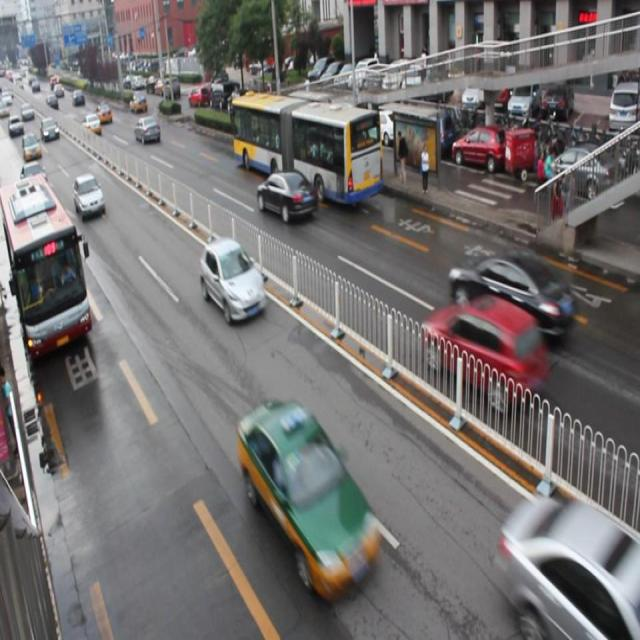car: (238, 403, 380, 591), (500, 492, 640, 640), (419, 291, 546, 409), (449, 248, 575, 341), (200, 238, 266, 323), (256, 172, 317, 221), (74, 172, 104, 218), (133, 116, 161, 145)
van: (230, 89, 381, 206), (1, 177, 92, 356)
